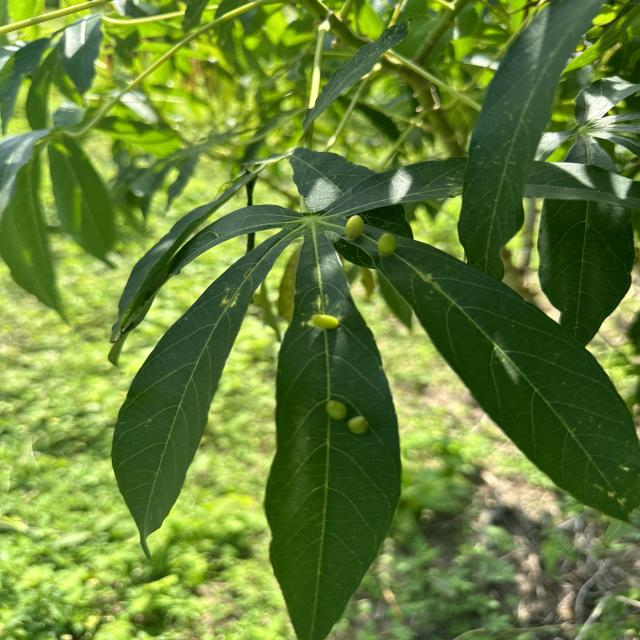Mosca: (340, 195, 418, 281), (300, 372, 366, 453), (282, 283, 347, 348)
